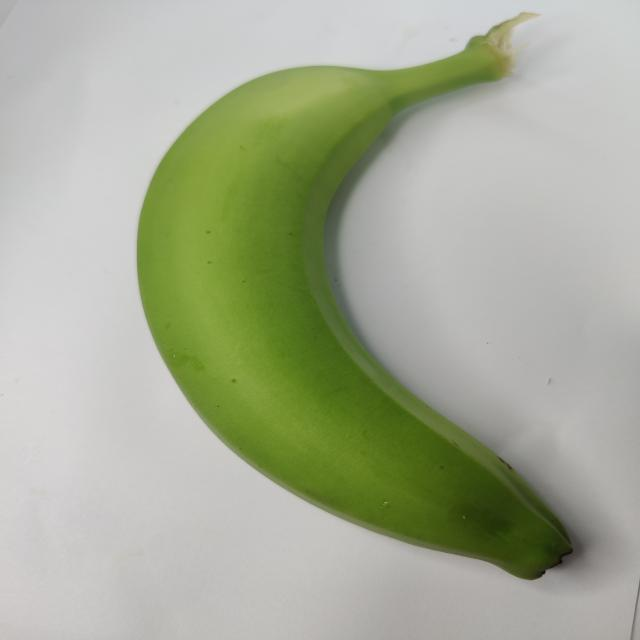Raw: (128, 3, 608, 604)
